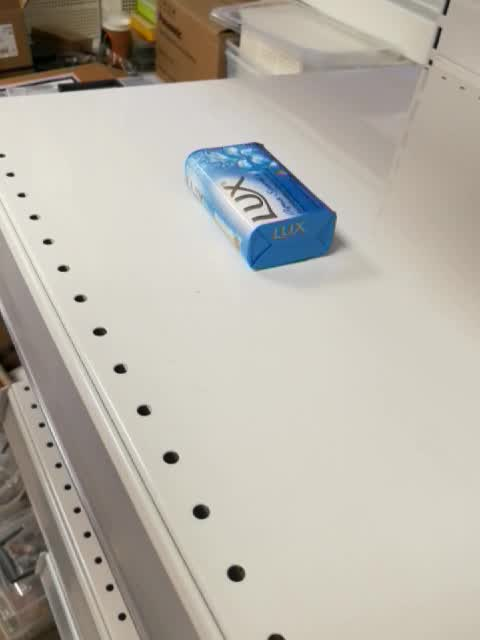soap: (184, 139, 340, 272)
